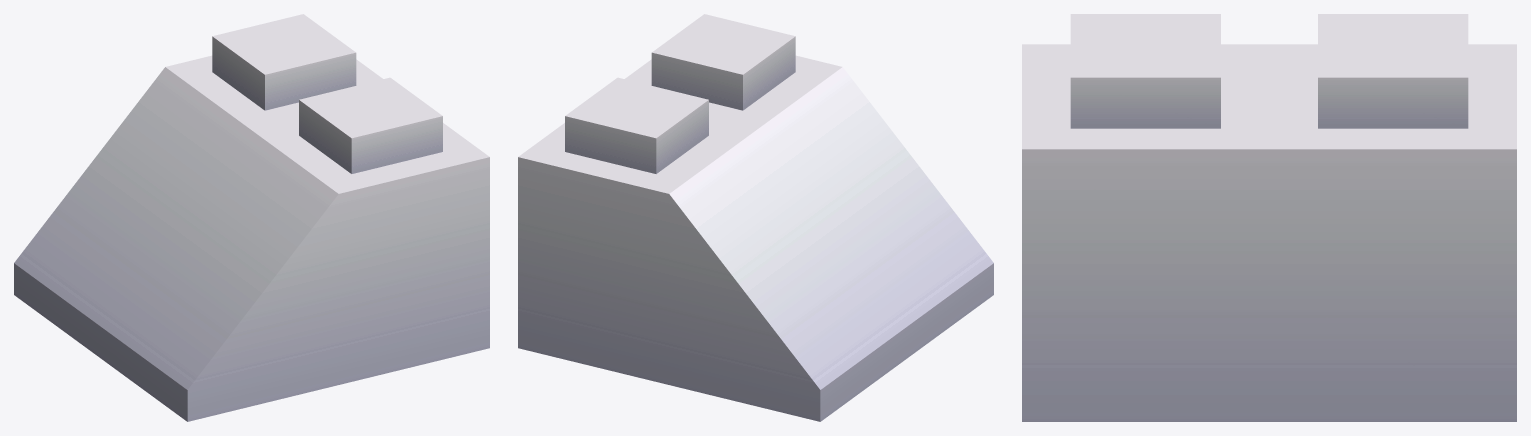
File: square-lq-brick-slope-2x2.glb
3 renders of one model, left to right at view 1: azimuth 30°, elevation 25°; view 2: azimuth 150°, elevation 25°; view 3: azimuth 270°, elevation 25°, orthographic. The views are drawn at different scales.
Parts seen in each view (by area): view 1: square-lq-brick-slope-2x2; view 2: square-lq-brick-slope-2x2; view 3: square-lq-brick-slope-2x2.
Part boxes in pixels (x1=…): square-lq-brick-slope-2x2: x1=14, y1=14, x2=489, y2=421; square-lq-brick-slope-2x2: x1=518, y1=14, x2=993, y2=421; square-lq-brick-slope-2x2: x1=1022, y1=14, x2=1516, y2=421.
Bounding box in the file's own units: 0.159 × 0.114 × 0.158.
Materials: 1 (1 with a texture image).
